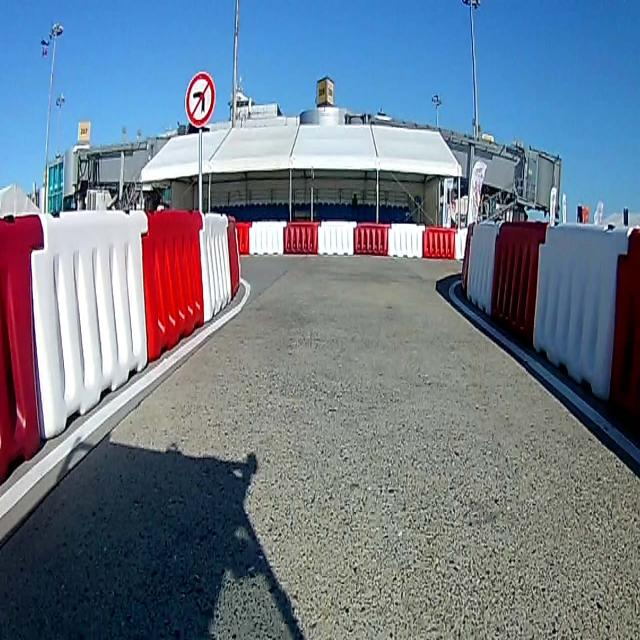soladonulmez: (184, 71, 216, 125)
